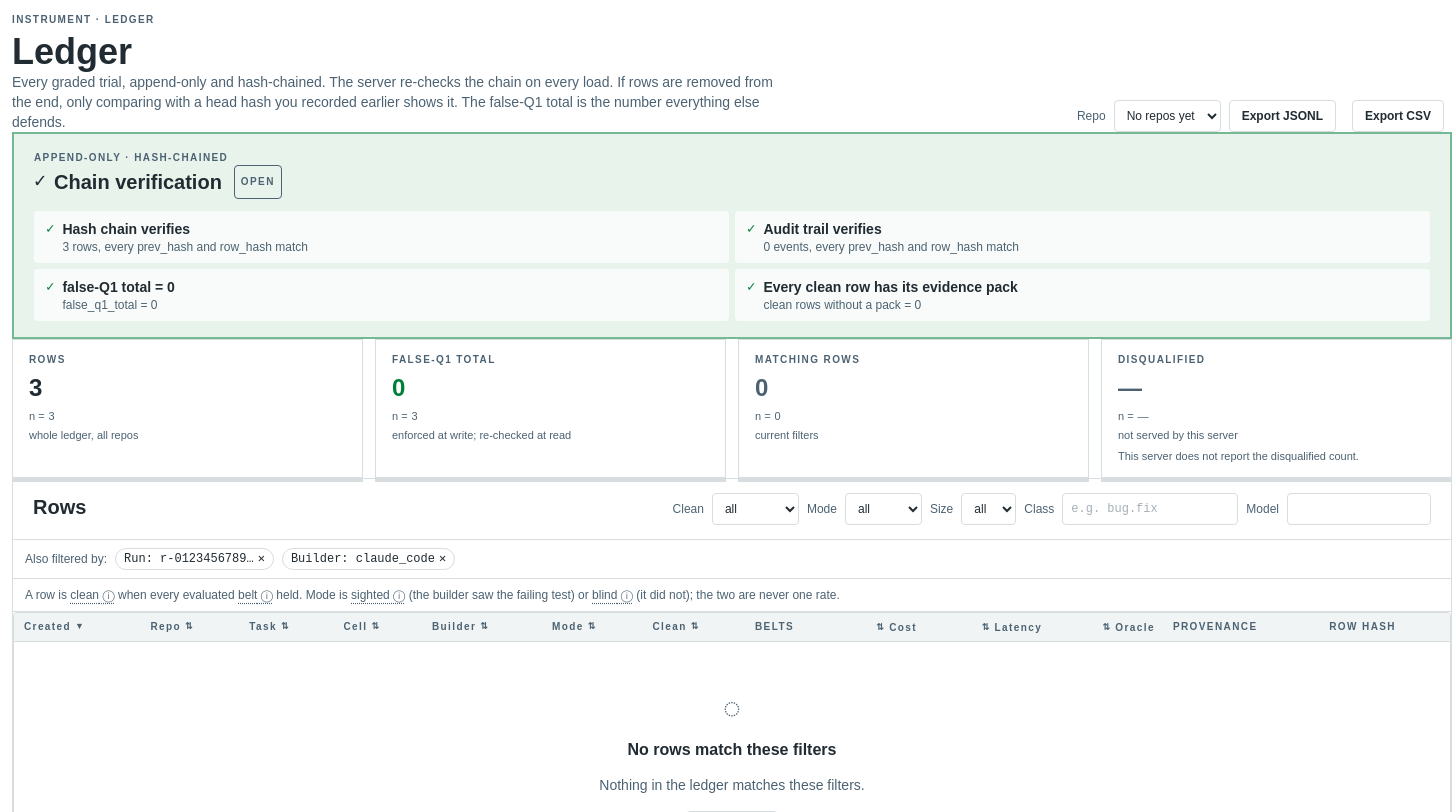
it: LedgerPage — filters that arrive in a link (G-180) › arriving at ?run_id=… shows the run as a chip, the request carries it, and the chip removes it
Expected: the button with test id "ledger-filter-chip-builder" shows "Builder: claude_code", [282,548,455,570]
Click the button with test id "ledger-filter-chip-run_id" at {"x": 194, "y": 559}, box [115,548,274,570]
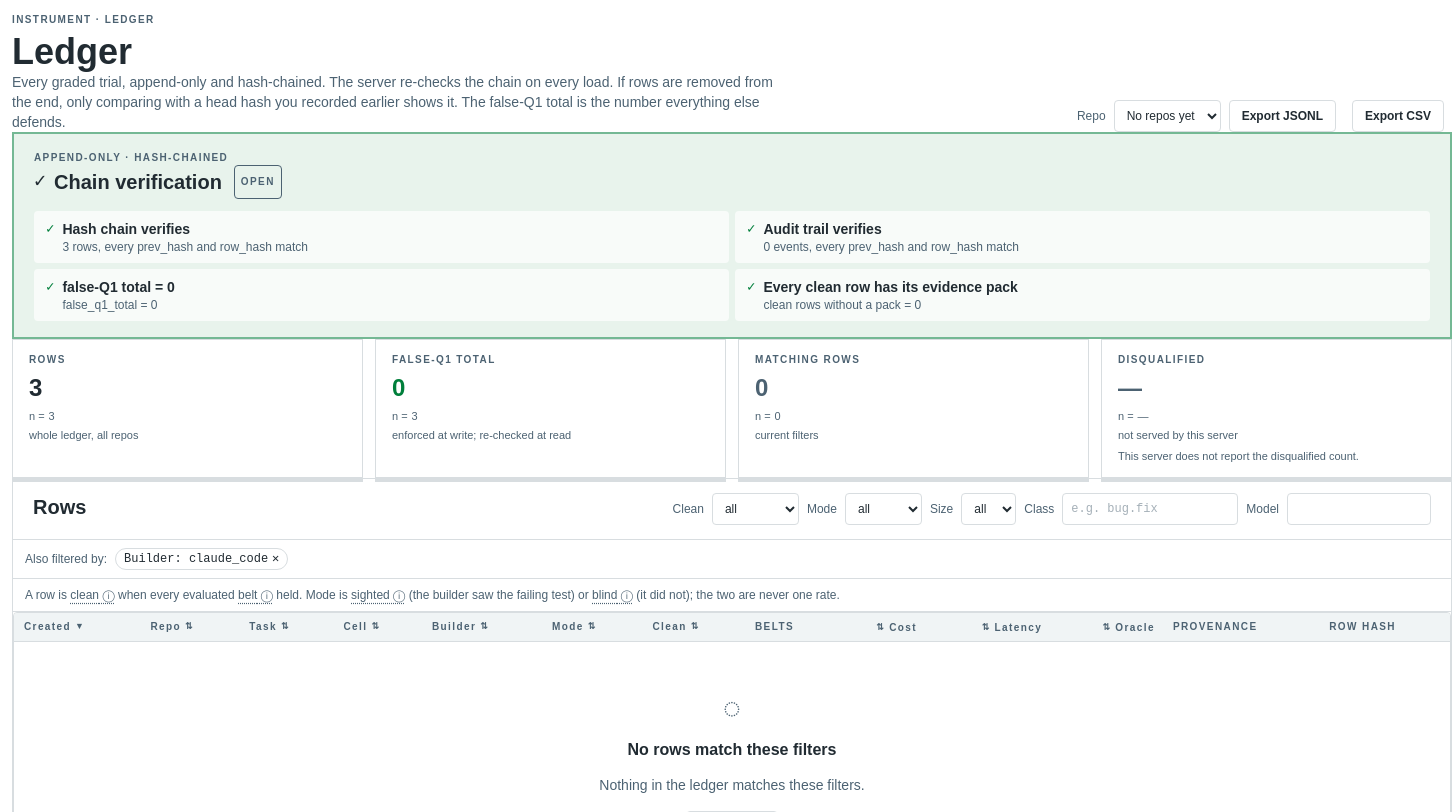
Expected: the button with test id "ledger-filter-chip-builder" is shown, [115,548,288,570]
Result: the button with test id "ledger-filter-chip-run_id" is gone
